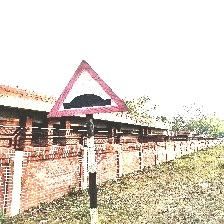Speed-breaker: (47, 59, 128, 120)
